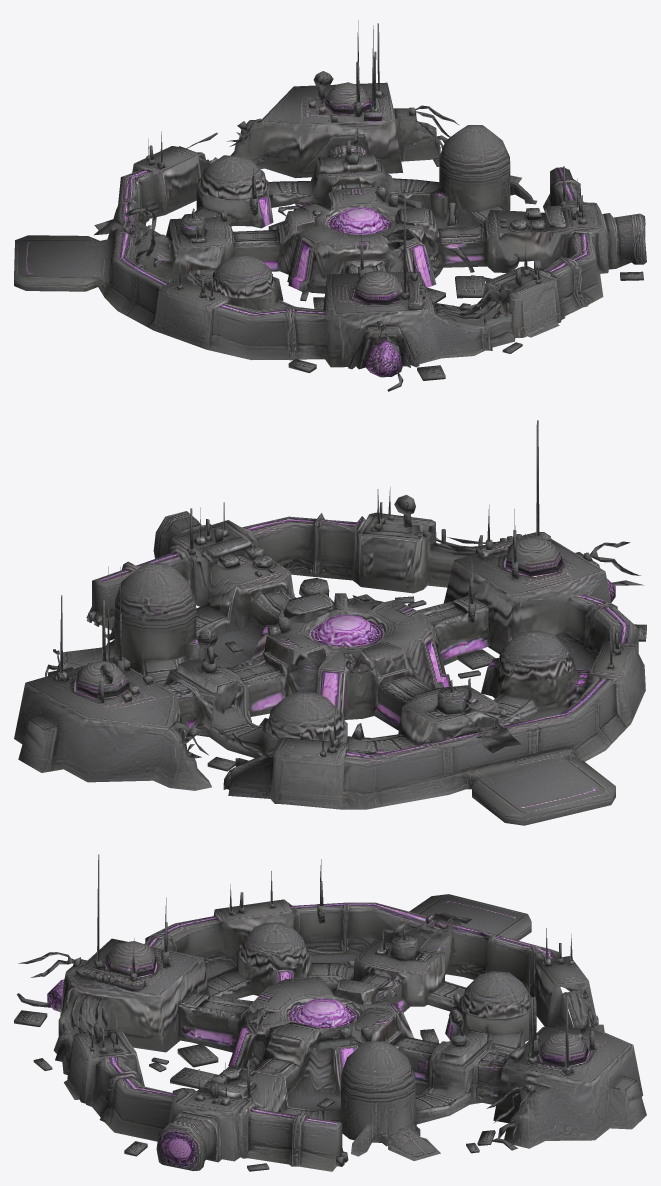
Rendered from 019e373a-b065-7bec-8ee9-da2f82c85972.glb.
3 views of the same model, one above another, from view 1: azimuth 30°, elevation 25°; view 2: azimuth 150°, elevation 25°; view 3: azimuth 270°, elevation 25° (orthographic). The views are drawn at different scales.
Visible parts, largest first — view 1: tripo_node_d7e48f75-79f8-4ace-849c-b01714f35618; view 2: tripo_node_d7e48f75-79f8-4ace-849c-b01714f35618; view 3: tripo_node_d7e48f75-79f8-4ace-849c-b01714f35618.
Boxes of the visible parts, box(x1,y1,x2,y2) form: tripo_node_d7e48f75-79f8-4ace-849c-b01714f35618: box(14, 20, 646, 391); tripo_node_d7e48f75-79f8-4ace-849c-b01714f35618: box(14, 420, 646, 825); tripo_node_d7e48f75-79f8-4ace-849c-b01714f35618: box(14, 854, 646, 1171).
Bounding box in the file's own units: 0.998 × 0.2988 × 0.998.
Materials: 1 (1 with a texture image).
